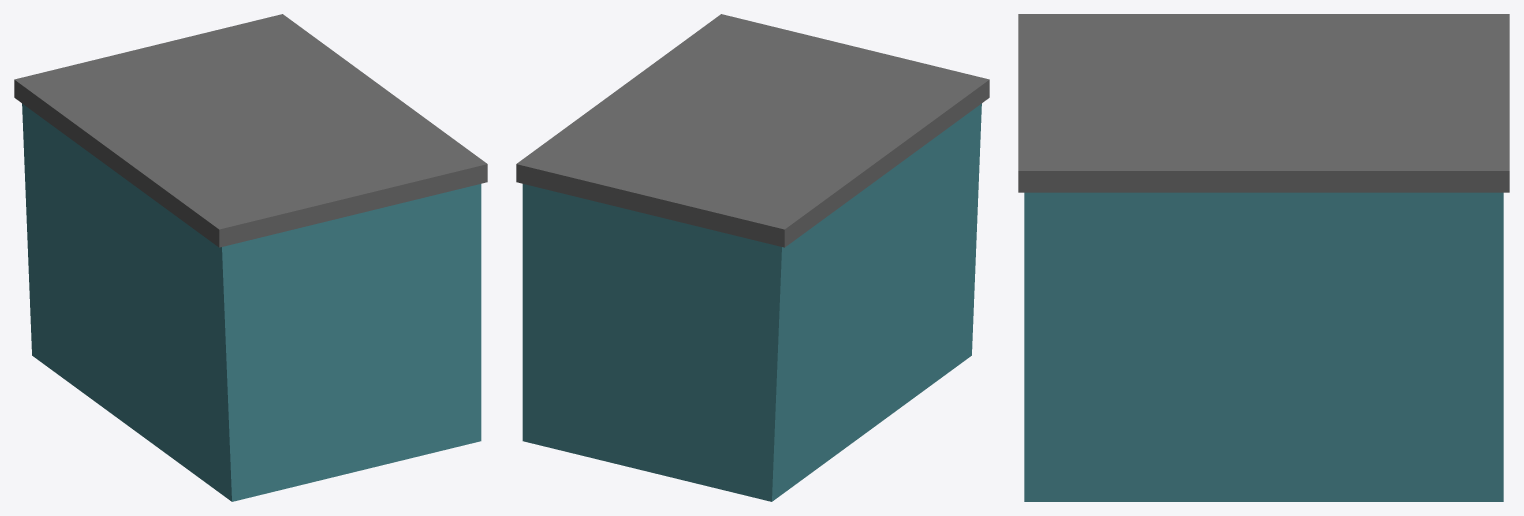
File: dumpster.fbx
The picture shows the model from 3 angles, left to right: view 1: azimuth 30°, elevation 25°; view 2: azimuth 150°, elevation 25°; view 3: azimuth 270°, elevation 25°; orthographic projection. The views are drawn at different scales.
Visible parts, largest first — view 1: pCube1, pCube2; view 2: pCube1, pCube2; view 3: pCube1, pCube2.
Boxes of the visible parts, x1,y1,x2,y2 form: pCube1: [22, 103, 481, 501]; pCube2: [14, 14, 487, 247]; pCube1: [522, 103, 981, 501]; pCube2: [516, 14, 989, 247]; pCube1: [1024, 192, 1503, 501]; pCube2: [1018, 14, 1509, 192].
Bounding box in the file's own units: 3.1 × 3.07 × 4.1.
